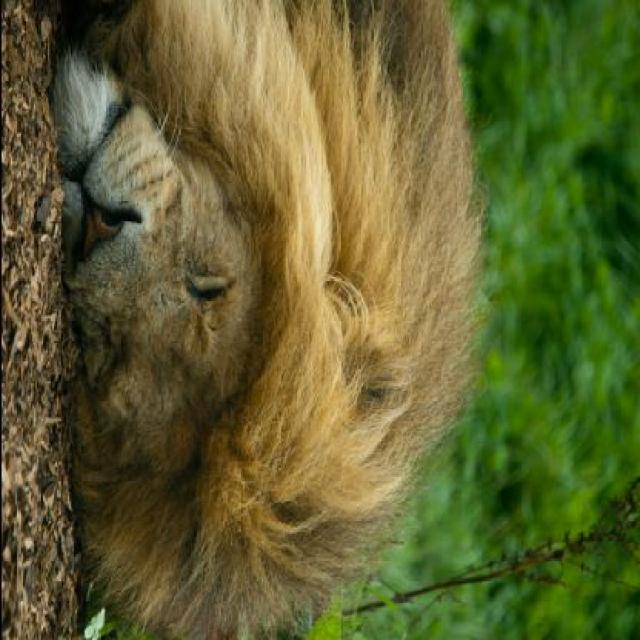Lion: (2, 1, 524, 628)
